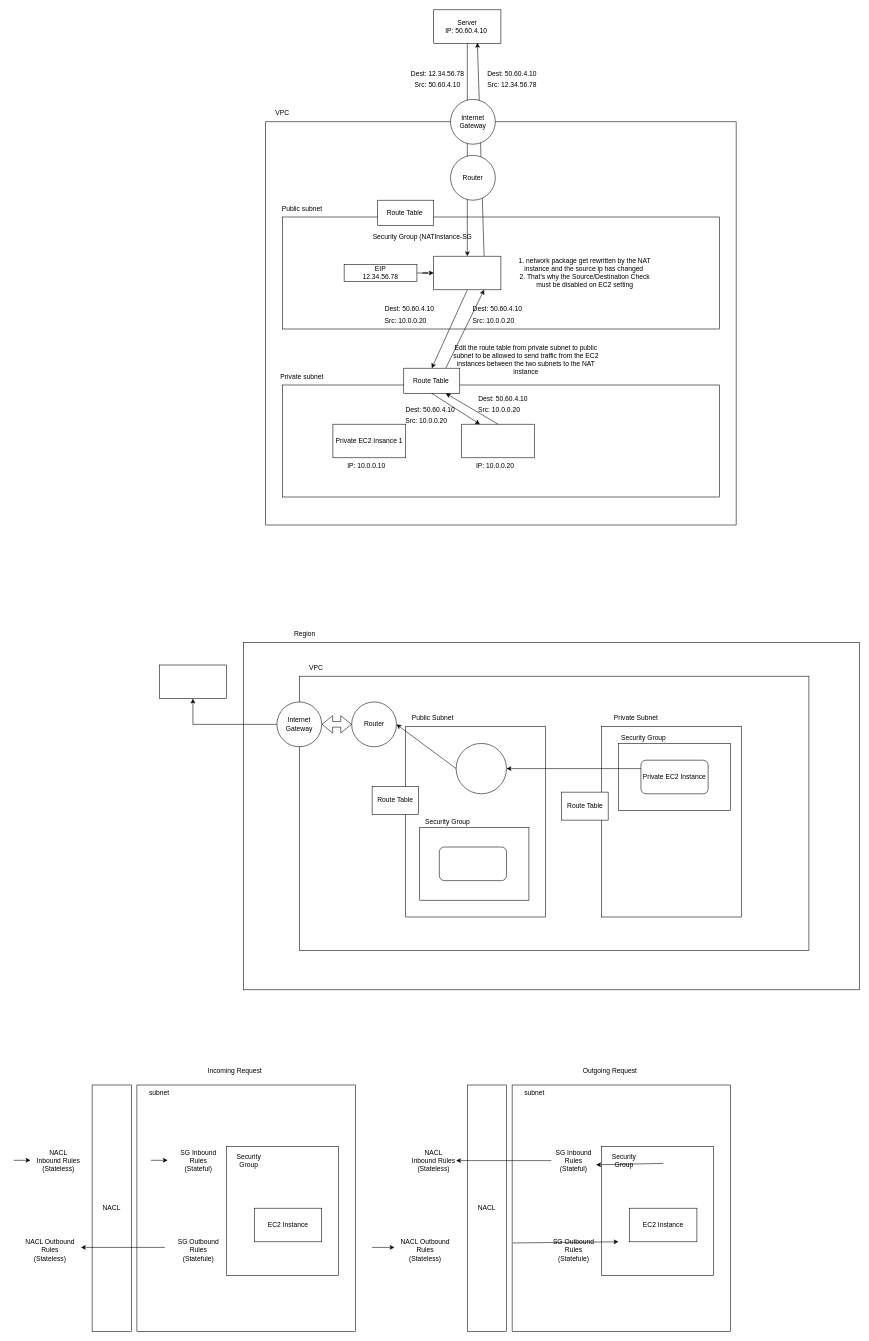
This 869x1341 diagram has some shape labels left out. The box of each missing label's shape, as (x1, y1, x2, y2) in pixels:
Internet: (159, 664, 227, 699)
NAT Gateway: (456, 743, 507, 794)
NAT Instance: (433, 256, 501, 290)
Private EC2 Insance 2: (461, 424, 535, 458)
Public EC2 Instance: (439, 846, 507, 881)
